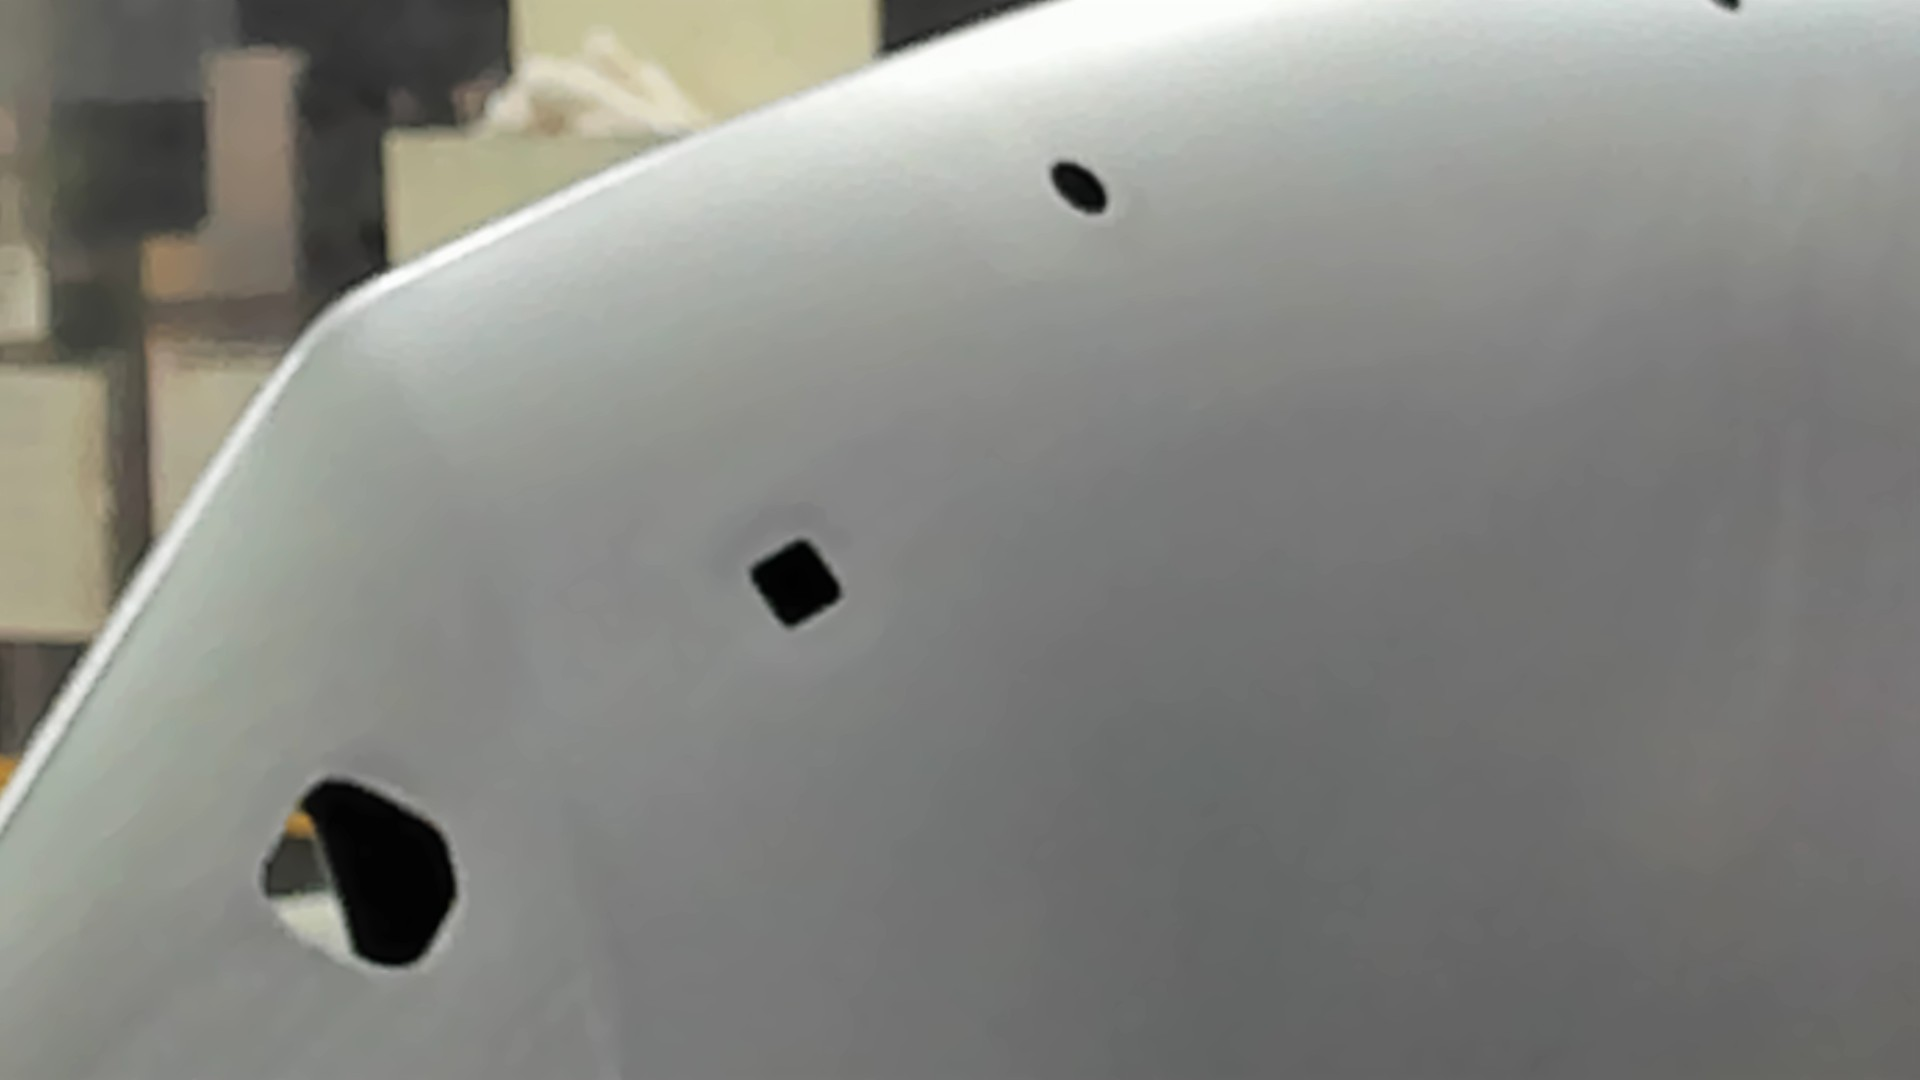chico: (1047, 154, 1110, 223), (1705, 1, 1749, 17)
grande: (255, 767, 468, 977)
mediano: (738, 527, 851, 638)
